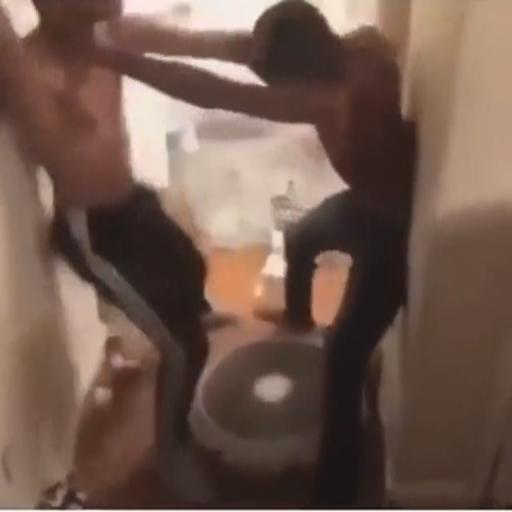violencia: (0, 0, 423, 424)
